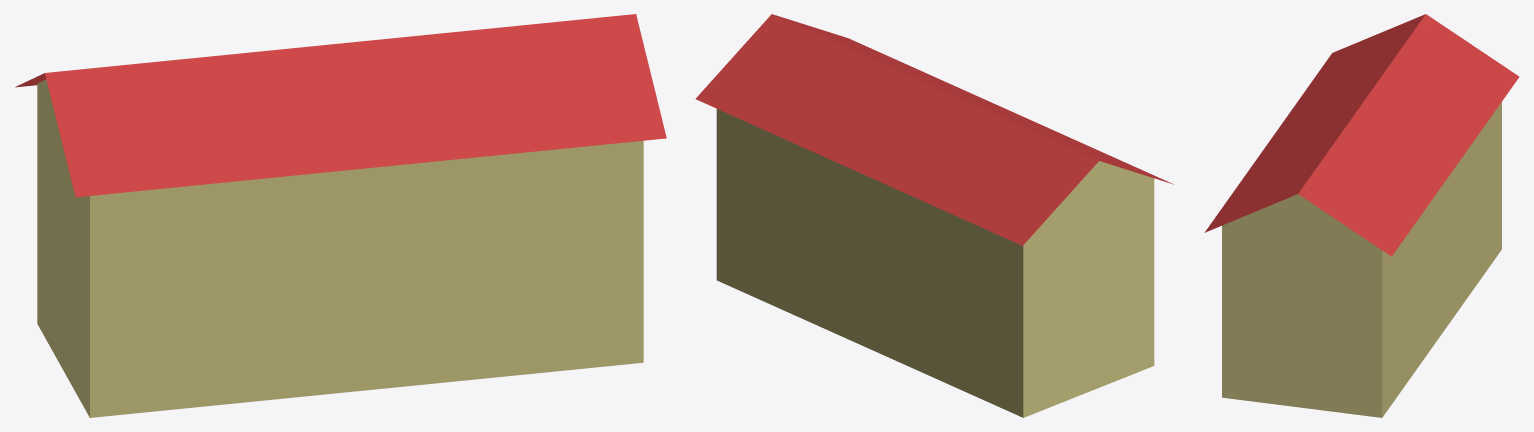
The picture shows the model from 3 angles, left to right: view 1: azimuth 30°, elevation 25°; view 2: azimuth 150°, elevation 25°; view 3: azimuth 270°, elevation 25°; orthographic projection. The views are drawn at different scales.
Parts seen in each view (by area): view 1: group_5, group_3; view 2: group_5, group_3; view 3: group_5, group_3.
Part boxes in pixels (box(x1,y1,x2,y2)): group_5: box(37, 79, 643, 417); group_3: box(45, 14, 666, 197); group_5: box(716, 109, 1154, 417); group_3: box(695, 14, 1173, 245); group_5: box(1222, 102, 1501, 417); group_3: box(1204, 14, 1519, 256).
Bounding box in the file's own units: 25.52 × 16.69 × 12.82.
